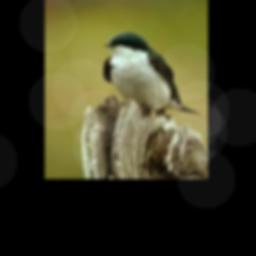Swallow: (103, 32, 200, 116)
